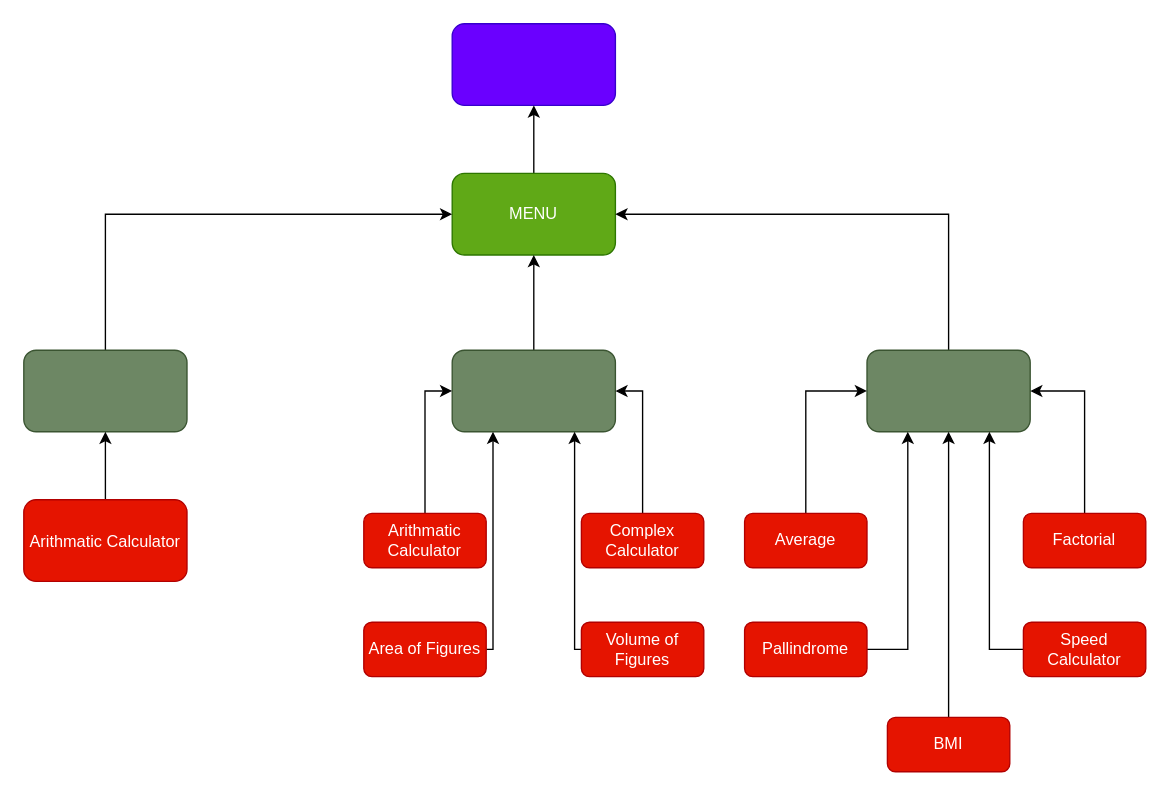
Image size: 1170x796. Some labels were removed from this diagram. Each missing label, with the centre of its shape:
"Calculator" goes at [533,63].
"Extra" goes at [948,390].
"Scientific" goes at [533,390].
"Standard" goes at [104,390].
